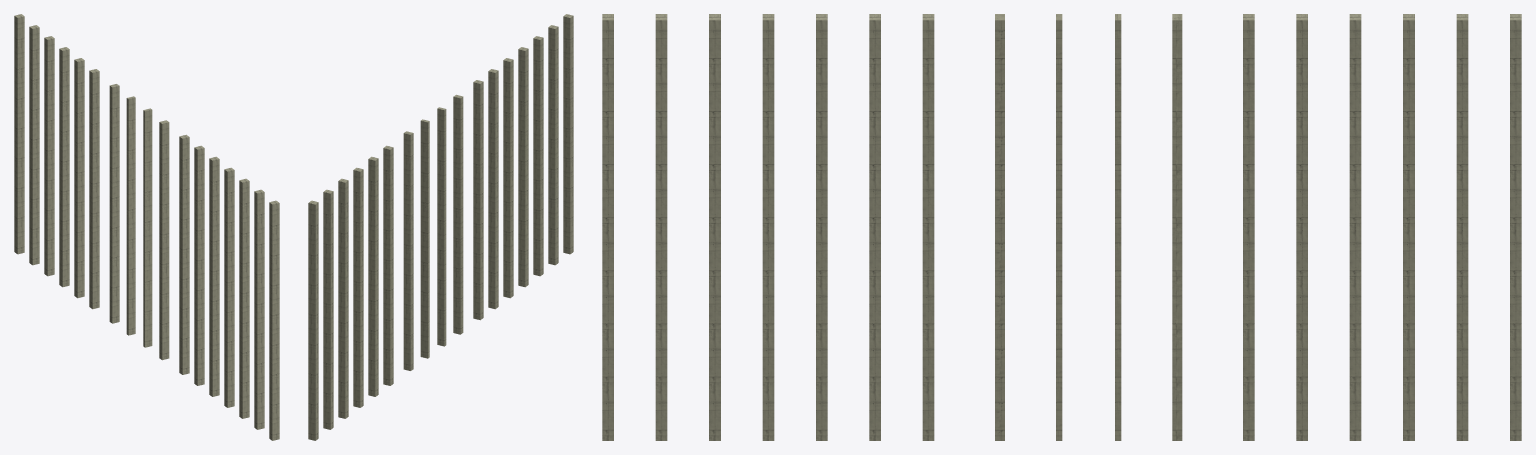
File: SM_Republic_09_00.fbx
3 views of the same model, side by side, from view 1: azimuth 30°, elevation 25°; view 2: azimuth 150°, elevation 25°; view 3: azimuth 270°, elevation 25° (orthographic). The views are drawn at different scales.
Visible parts, largest first — view 1: SM_Republic_09_00; view 2: SM_Republic_09_00; view 3: SM_Republic_09_00.
Part boxes in pixels (x1=…): SM_Republic_09_00: x1=14, y1=14, x2=279, y2=440; SM_Republic_09_00: x1=308, y1=14, x2=573, y2=440; SM_Republic_09_00: x1=602, y1=14, x2=1521, y2=440.
Size of the model in its own units: 260 by 8194 by 16224.
